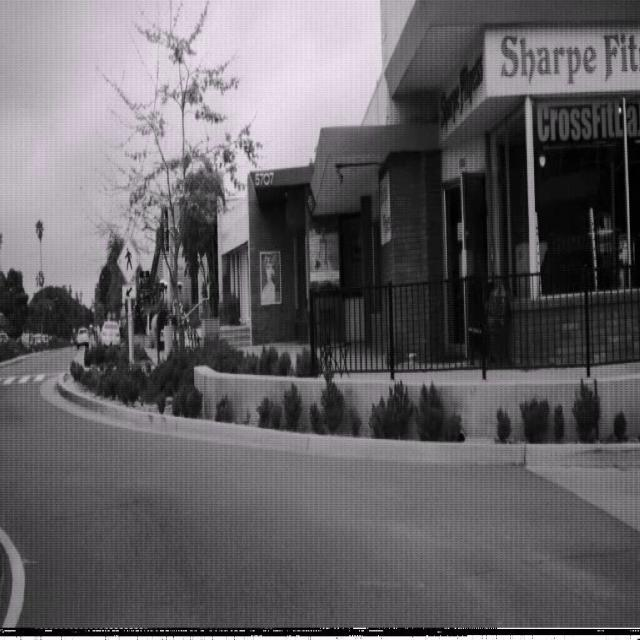pedestrianCrossing: (116, 236, 140, 284)
